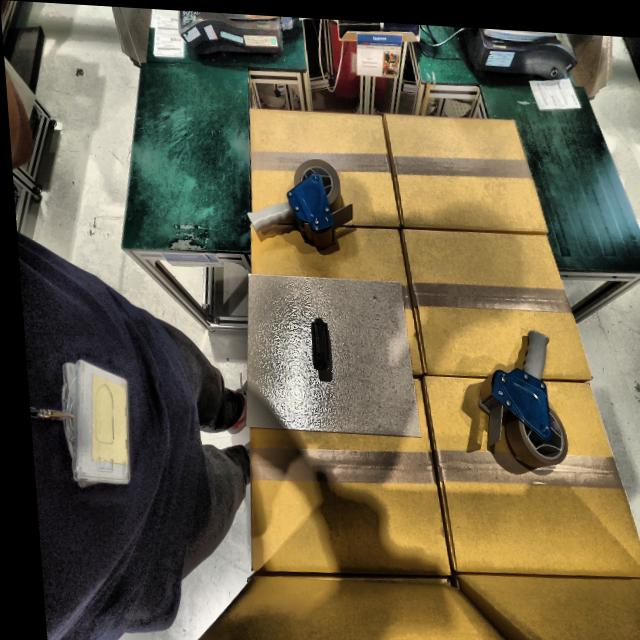P38: (307, 315, 325, 367)
